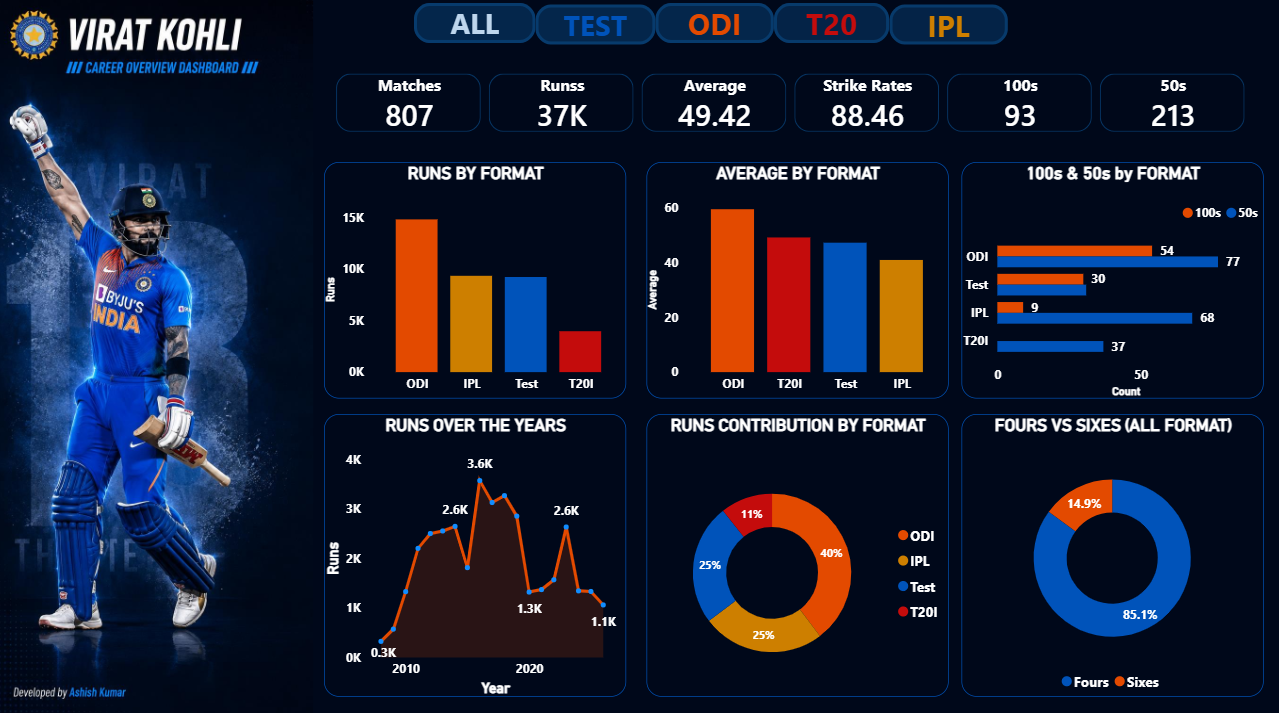

The page's visual inventory and layout, read from the dashboard file:
{"tool":"powerbi","page":{"name":"VIRAT_KOHLI","canvas":[1280,720],"ordinal":0},"visuals":[{"type":"actionButton","box":[415.1,9.5,120.9,39.8],"z":0},{"type":"actionButton","box":[536,11.1,119.3,39.8],"z":1000},{"type":"actionButton","box":[655.3,9.5,117.7,39.8],"z":2000},{"type":"actionButton","box":[773,9.5,114.5,39.8],"z":3000},{"type":"actionButton","box":[887.6,11.1,117.7,39.8],"z":4000},{"type":"cardVisual","fields":{"Data":["Virat_Kohli_Master.Matches","Virat_Kohli_Master.Runss","Virat_Kohli_Master.Average","Virat_Kohli_Master.Strike Rates","Virat_Kohli_Master.100s","Virat_Kohli_Master.50s"]},"box":[326.1,66.8,933.7,82.7],"z":5000},{"type":"clusteredColumnChart","title":"RUNS BY FORMAT","fields":{"Category":["Virat_Kohli_Master.Format"],"Y":["Sum(Virat_Kohli_Master.Runs)"]},"box":[326.1,167,300.6,235.4],"z":6000},{"type":"clusteredColumnChart","title":"AVERAGE BY FORMAT","fields":{"Category":["Virat_Kohli_Master.Format"],"Y":["Virat_Kohli_Master.Average"]},"box":[645.8,167,300.6,235.4],"z":7000},{"type":"clusteredBarChart","title":"100s & 50s by FORMAT","fields":{"Category":["Virat_Kohli_Master.Format"],"Y":["Virat_Kohli_Master.100s","Virat_Kohli_Master.50s"]},"box":[959.1,167,300.6,235.4],"z":8000},{"type":"lineChart","title":"RUNS OVER THE YEARS ","fields":{"Category":["Virat_Kohli_Master.Date.Variation.Date Hierarchy.Year"],"Y":["Sum(Virat_Kohli_Master.Runs)"]},"box":[326.1,418.3,300.6,281.5],"z":9000},{"type":"donutChart","title":"RUNS CONTRIBUTION BY FORMAT","fields":{"Category":["Virat_Kohli_Master.Format"],"Y":["Sum(Virat_Kohli_Master.Runs)"]},"box":[645.8,418.3,300.6,281.5],"z":10000},{"type":"donutChart","title":"FOURS VS SIXES (ALL FORMAT)","fields":{"Y":["Sum(Virat_Kohli_Master.Fours)","Sum(Virat_Kohli_Master.Sixes)"]},"box":[959.1,418.3,300.6,281.5],"z":11000}]}

Visuals, with their boxes in screenshot pixels (x1, y1, x2, y2), scaled from the page's 1280x720 canvas onto the 1279x713 screenshot:
actionButton: bbox(415, 9, 536, 49)
actionButton: bbox(536, 11, 655, 50)
actionButton: bbox(655, 9, 772, 49)
actionButton: bbox(772, 9, 887, 49)
actionButton: bbox(887, 11, 1005, 50)
cardVisual - Virat_Kohli_Master.Matches x Virat_Kohli_Master.Runss: bbox(326, 66, 1259, 148)
"RUNS BY FORMAT" clusteredColumnChart: bbox(326, 165, 626, 398)
"AVERAGE BY FORMAT" clusteredColumnChart: bbox(645, 165, 946, 398)
"100s & 50s by FORMAT" clusteredBarChart: bbox(958, 165, 1259, 398)
"RUNS OVER THE YEARS " lineChart: bbox(326, 414, 626, 693)
"RUNS CONTRIBUTION BY FORMAT" donutChart: bbox(645, 414, 946, 693)
"FOURS VS SIXES (ALL FORMAT)" donutChart: bbox(958, 414, 1259, 693)
